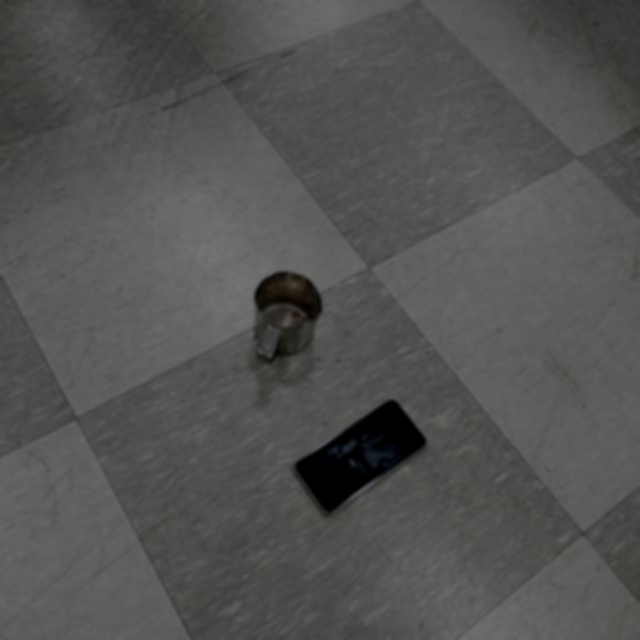cup: (250, 270, 325, 366)
phone: (296, 399, 426, 514)
